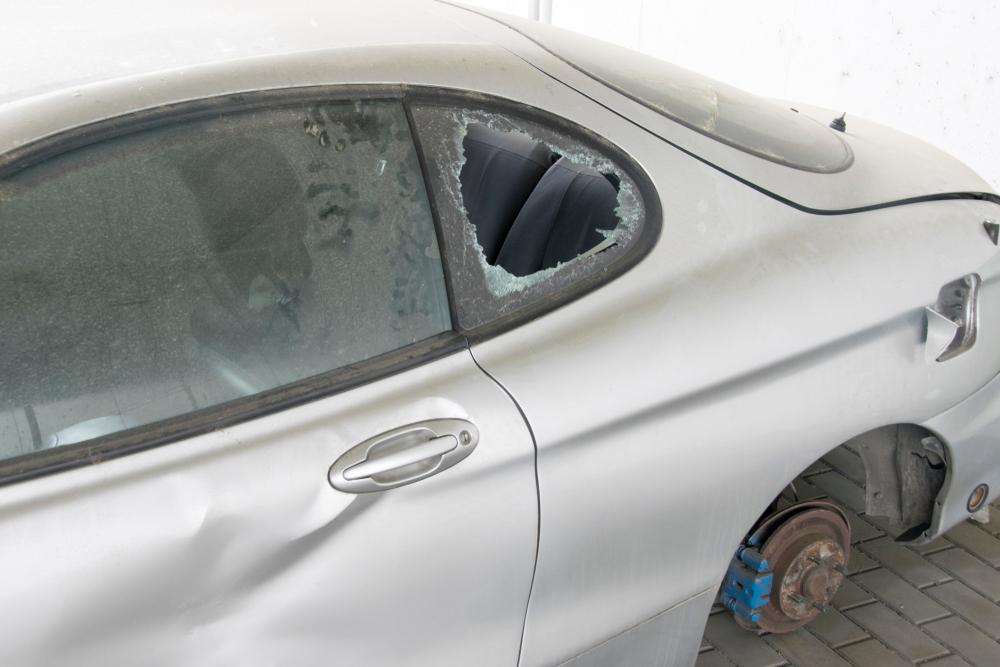dent: (159, 475, 399, 667)
glass shatter: (410, 104, 644, 330)
